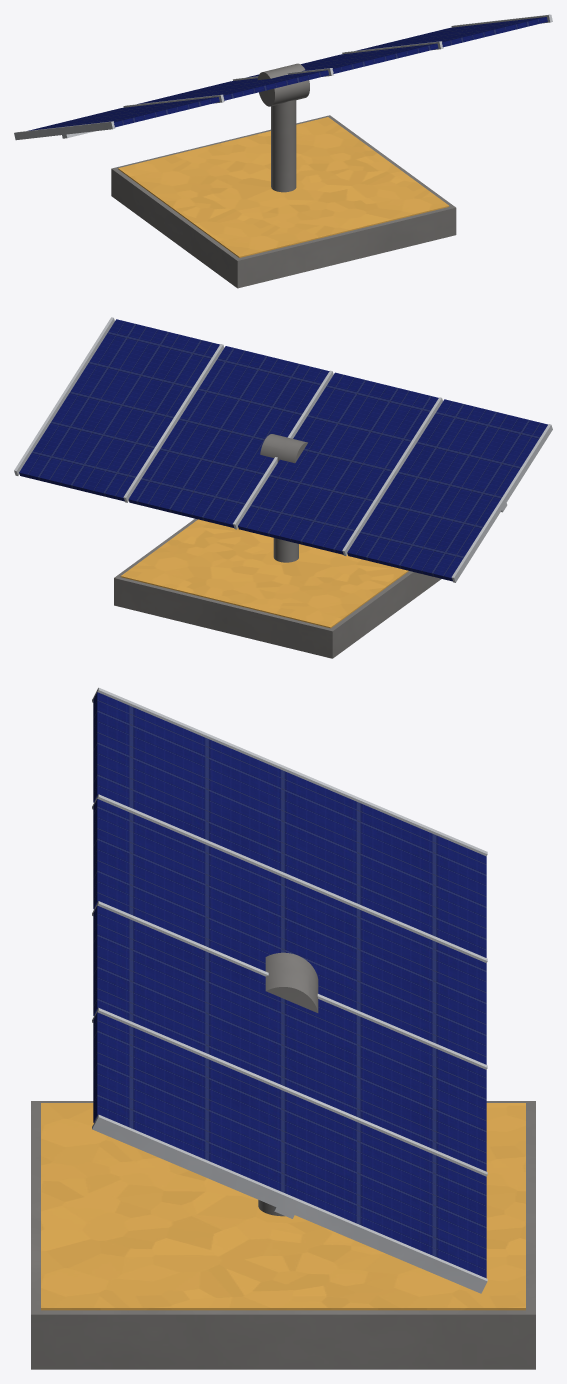
Rendered from rover28_solar_mount_s_deployed.glb.
3 renders of one model, top to bottom at view 1: azimuth 30°, elevation 25°; view 2: azimuth 150°, elevation 25°; view 3: azimuth 270°, elevation 25°, orthographic. The views are drawn at different scales.
Visible parts, largest first — view 1: base_foil, base, panel_wing, mast, panel_frames; view 2: panel_wing, base_foil, base, panel_frames, mast; view 3: panel_wing, base_foil, base, panel_frames, mast.
Boxes of the visible parts, left/top/right/bottom form: base_foil: left=118, top=117, right=449, bottom=257; base: left=111, top=115, right=456, bottom=288; panel_wing: left=28, top=17, right=547, bottom=130; mast: left=257, top=63, right=309, bottom=192; panel_frames: left=14, top=14, right=552, bottom=140; panel_wing: left=19, top=319, right=547, bottom=581; base_foil: left=120, top=519, right=408, bottom=628; base: left=114, top=518, right=441, bottom=658; panel_frames: left=14, top=317, right=552, bottom=582; mast: left=260, top=434, right=307, bottom=562; panel_wing: left=93, top=692, right=486, bottom=1278; base_foil: left=41, top=1103, right=525, bottom=1310; base: left=31, top=1101, right=535, bottom=1369; panel_frames: left=92, top=687, right=487, bottom=1293; mast: left=258, top=952, right=318, bottom=1216.
Size of the model in its own units: 2.01 by 0.7904 by 1.
4 materials, 4 textured.
